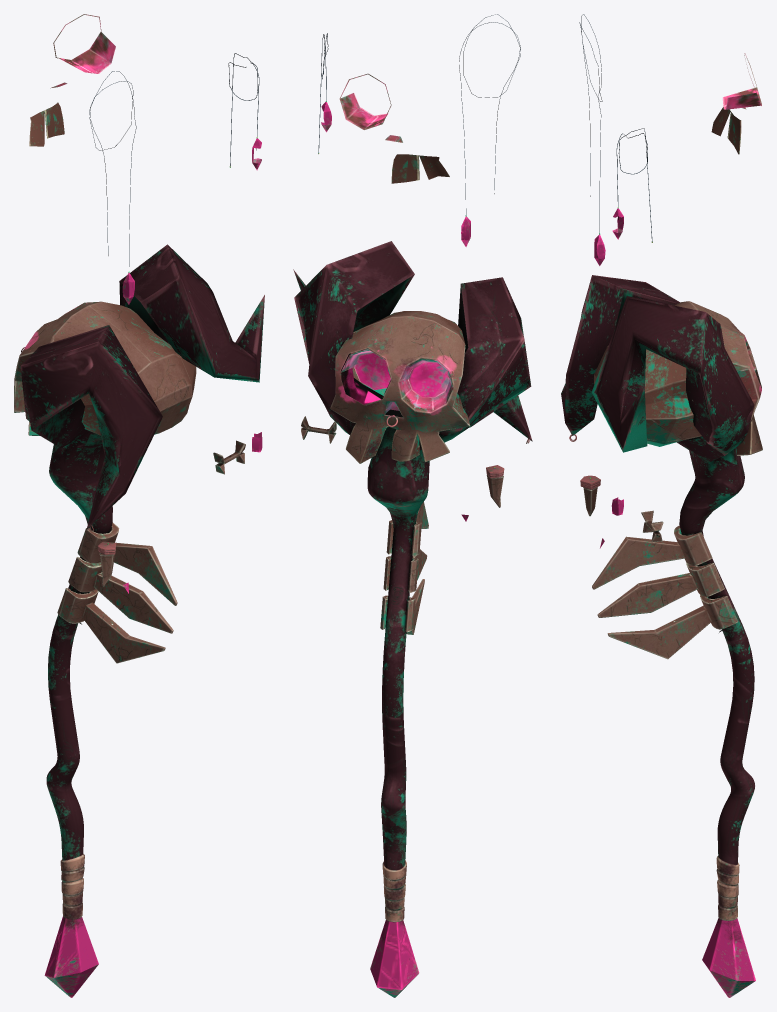
Rendered from staff.glb.
3 views of the same model, side by side, from view 1: azimuth 30°, elevation 25°; view 2: azimuth 150°, elevation 25°; view 3: azimuth 270°, elevation 25° (orthographic). The views are drawn at different scales.
Parts seen in each view (by area): view 1: Object_2, Object_3; view 2: Object_2, Object_3; view 3: Object_2, Object_3.
Part boxes in pixels (x1=…): Object_2: x1=14, y1=244, x2=264, y2=997; Object_3: x1=29, y1=14, x2=261, y2=624; Object_2: x1=293, y1=241, x2=532, y2=997; Object_3: x1=318, y1=14, x2=520, y2=246; Object_2: x1=561, y1=275, x2=762, y2=997; Object_3: x1=579, y1=14, x2=761, y2=632.
Bounding box in the file's own units: 0.8271 × 3.21 × 0.6065.
Materials: 1 (1 with a texture image).
